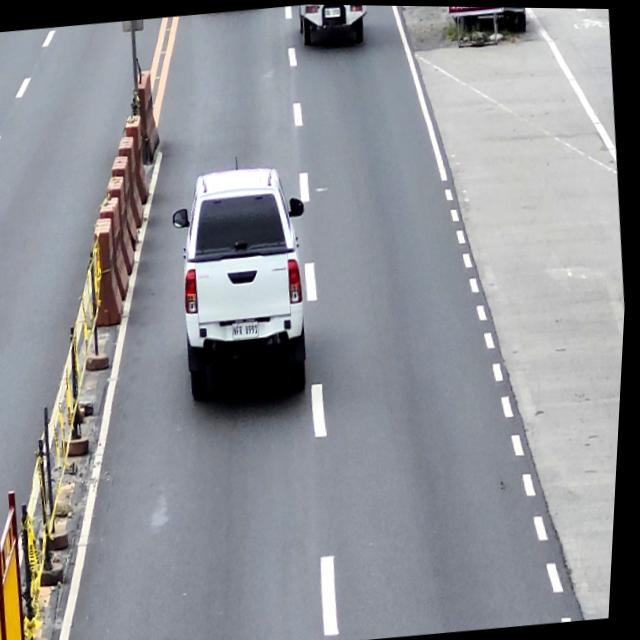Car: (164, 161, 328, 406)
License-Plate: (233, 319, 264, 339)
